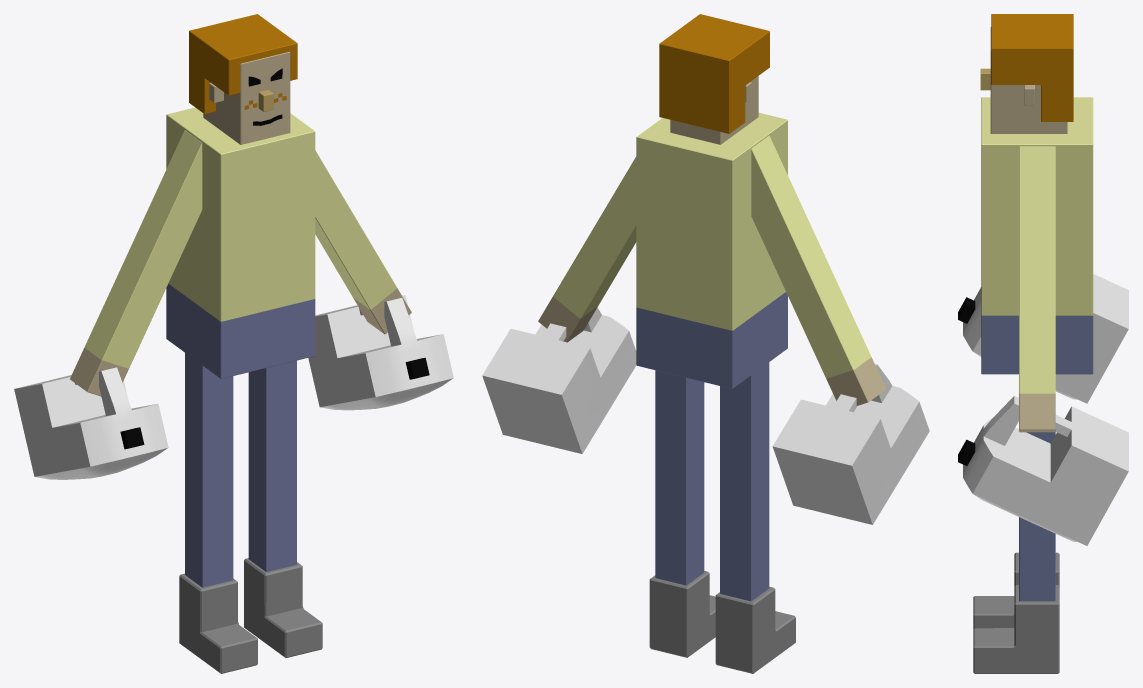
Rendered from milk_jugs_no_work_sim.fbx.
The picture shows the model from 3 angles, left to right: view 1: azimuth 30°, elevation 25°; view 2: azimuth 150°, elevation 25°; view 3: azimuth 270°, elevation 25°; orthographic projection. The views are drawn at different scales.
Visible parts, largest first — view 1: milk_jugs; view 2: milk_jugs; view 3: milk_jugs.
Part boxes in pixels (x1,y1,x2,y2): milk_jugs: [14, 14, 453, 673]; milk_jugs: [482, 14, 929, 673]; milk_jugs: [958, 14, 1128, 673].
Size of the model in its own units: 1.13 by 1.8 by 0.4504.
